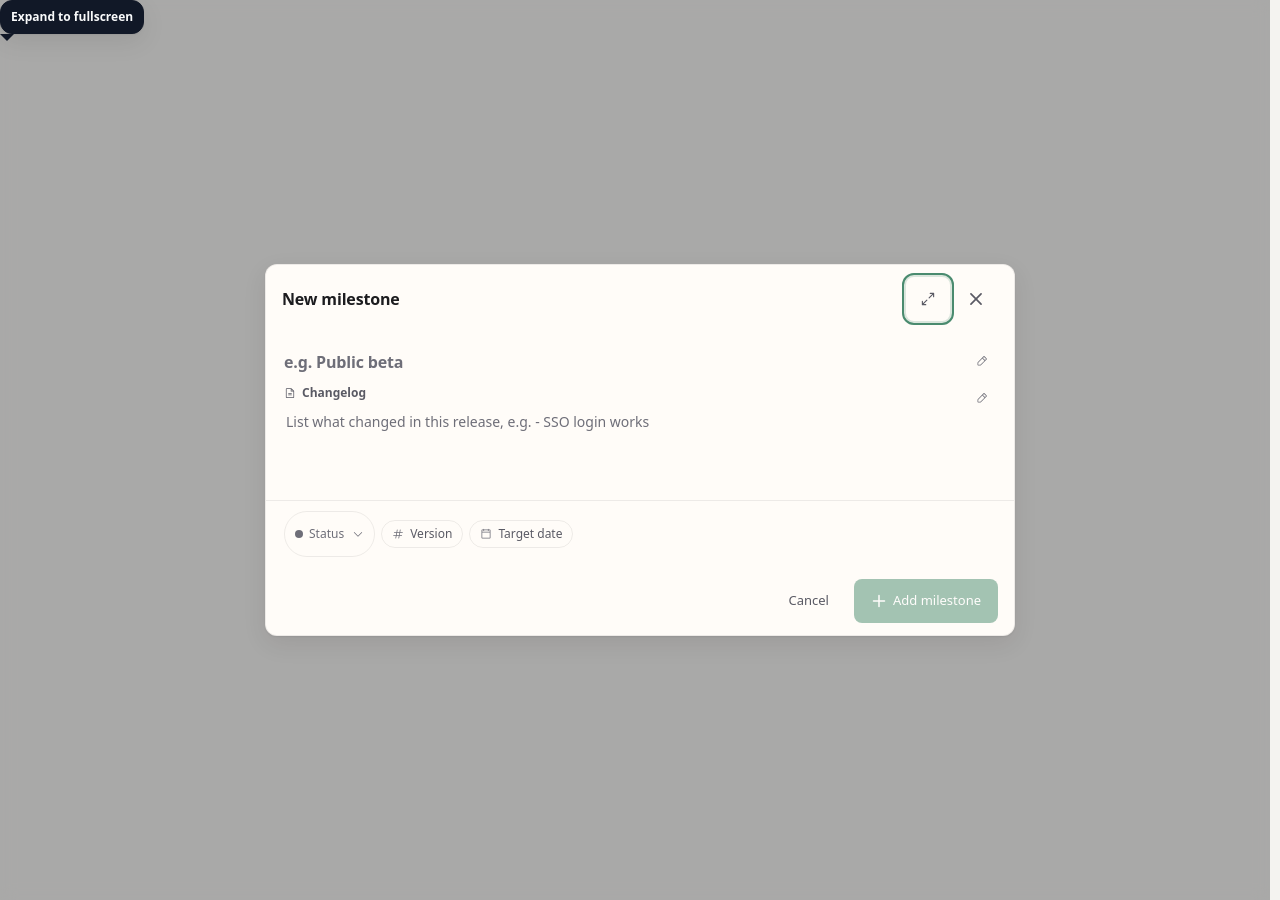
Test: NewMilestoneModal › picks a single target date from the picker popup
Click the button "Target date". click: click(521, 534)
box: [469,520,574,548]
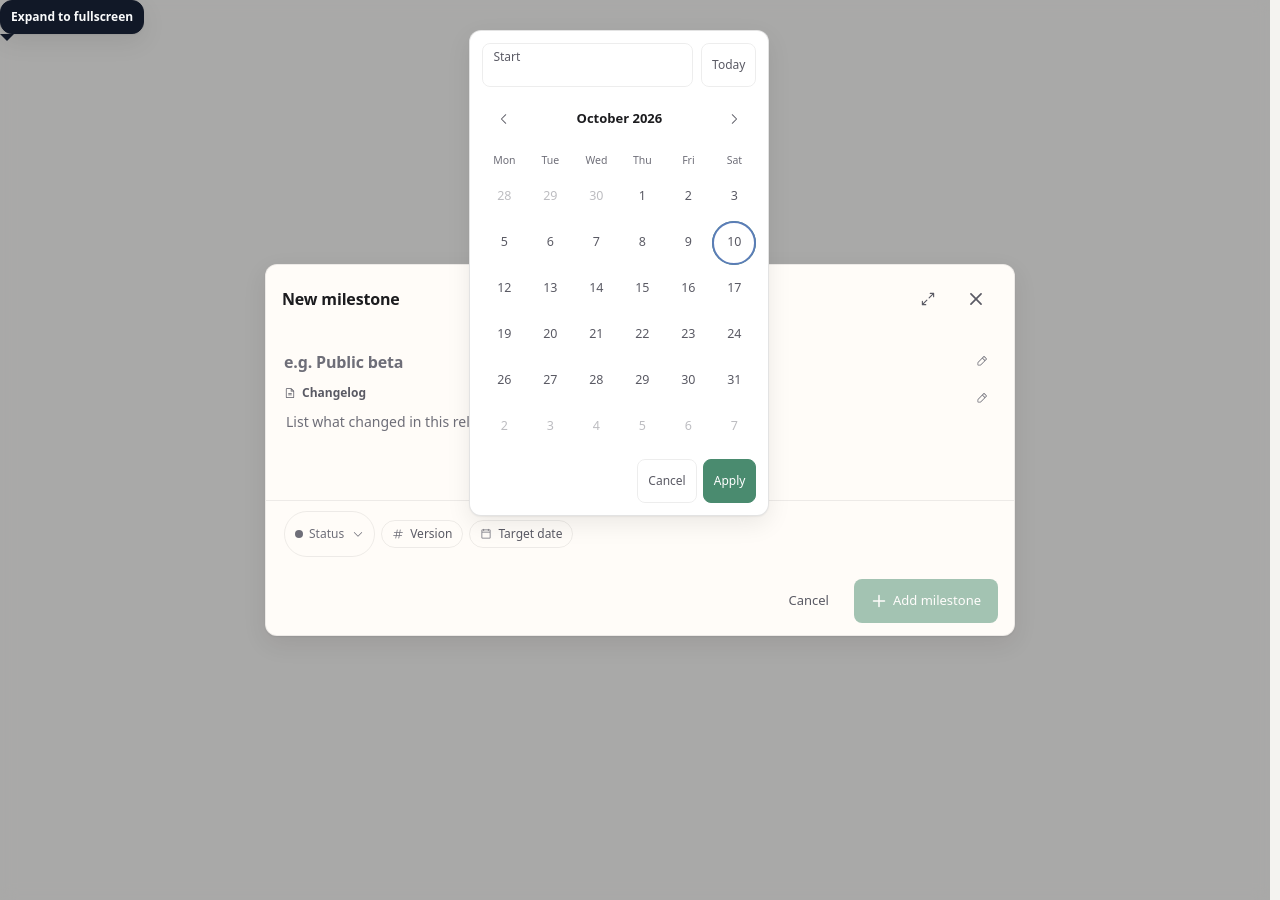
Expected: the dialog named "Choose date" is shown, [469,30,769,516]
Click the button "15". click: click(642, 289)
box: [620,267,664,311]
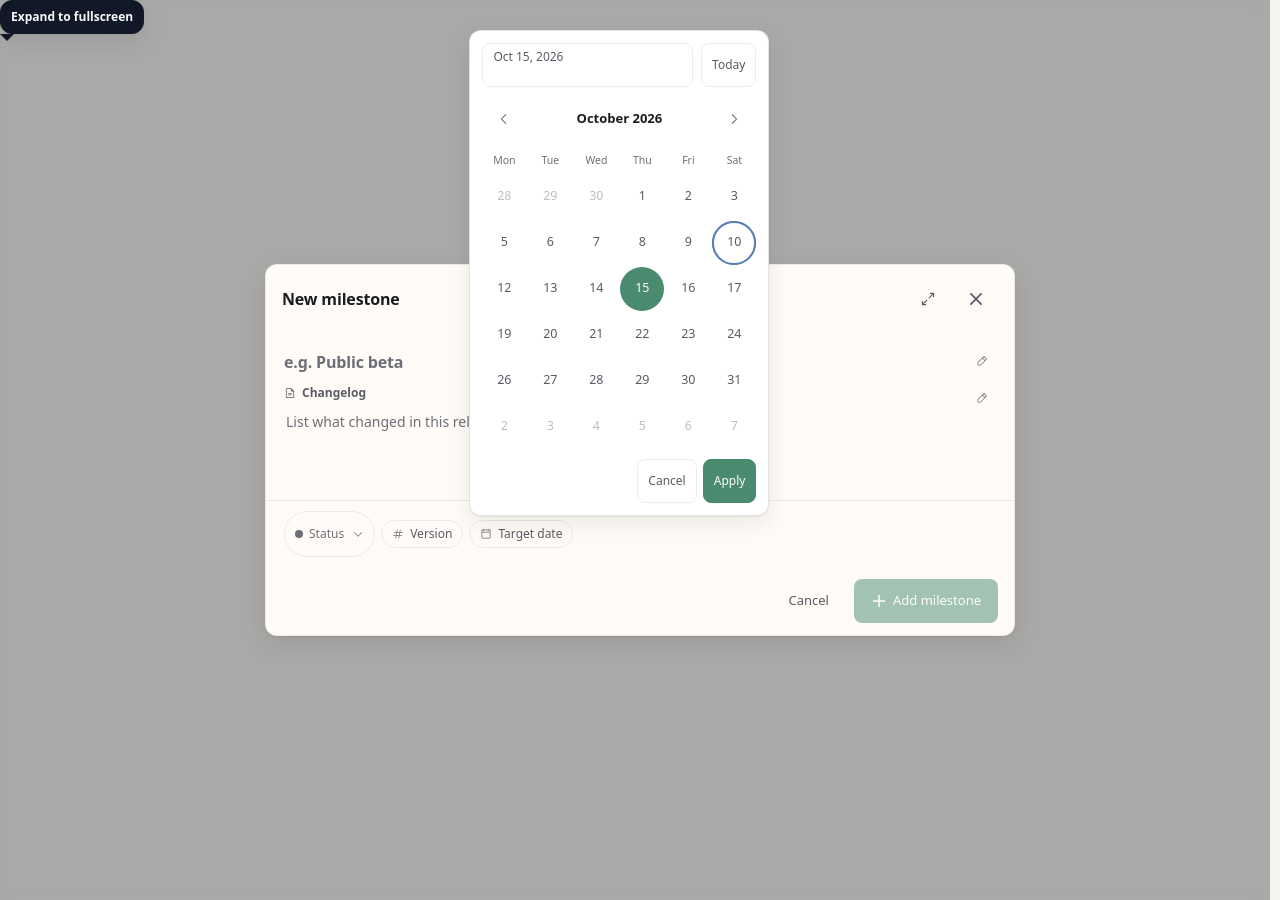
Click the button "Apply". click: click(730, 481)
box: [703,459,756,503]
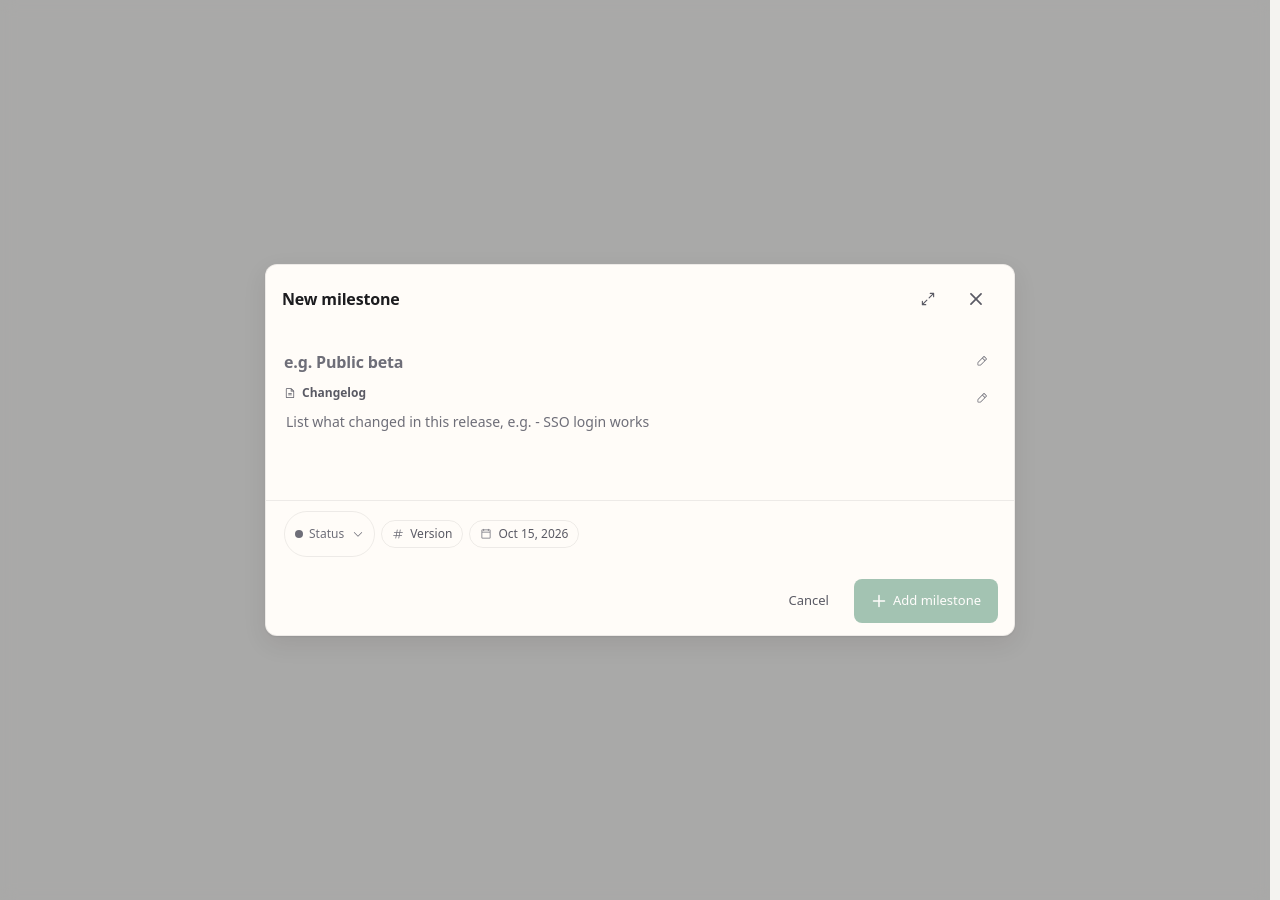
Expected: the button "Oct 15, 2026" is shown, [469,520,580,548]
